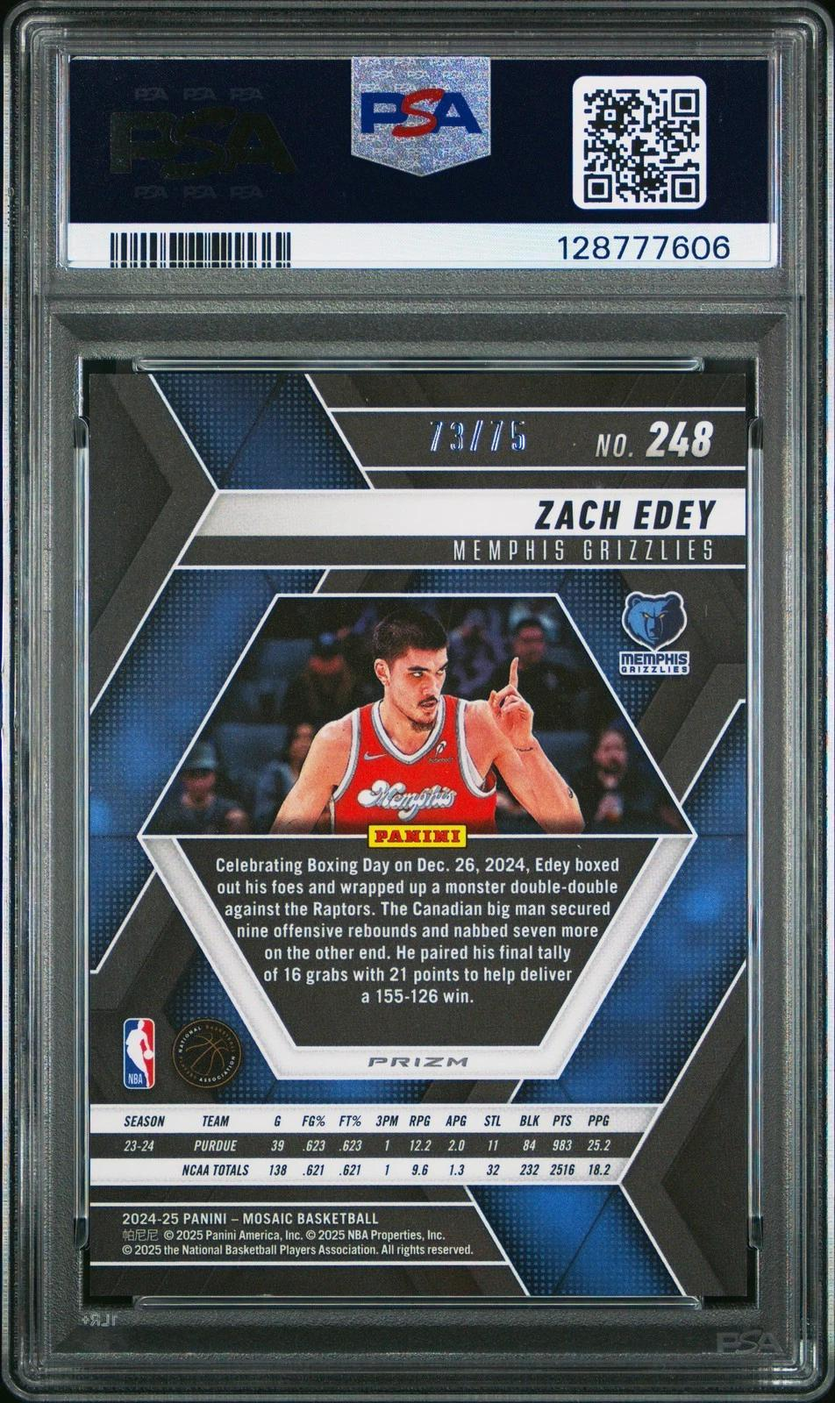card-2UtV: (89, 373, 748, 1296)
